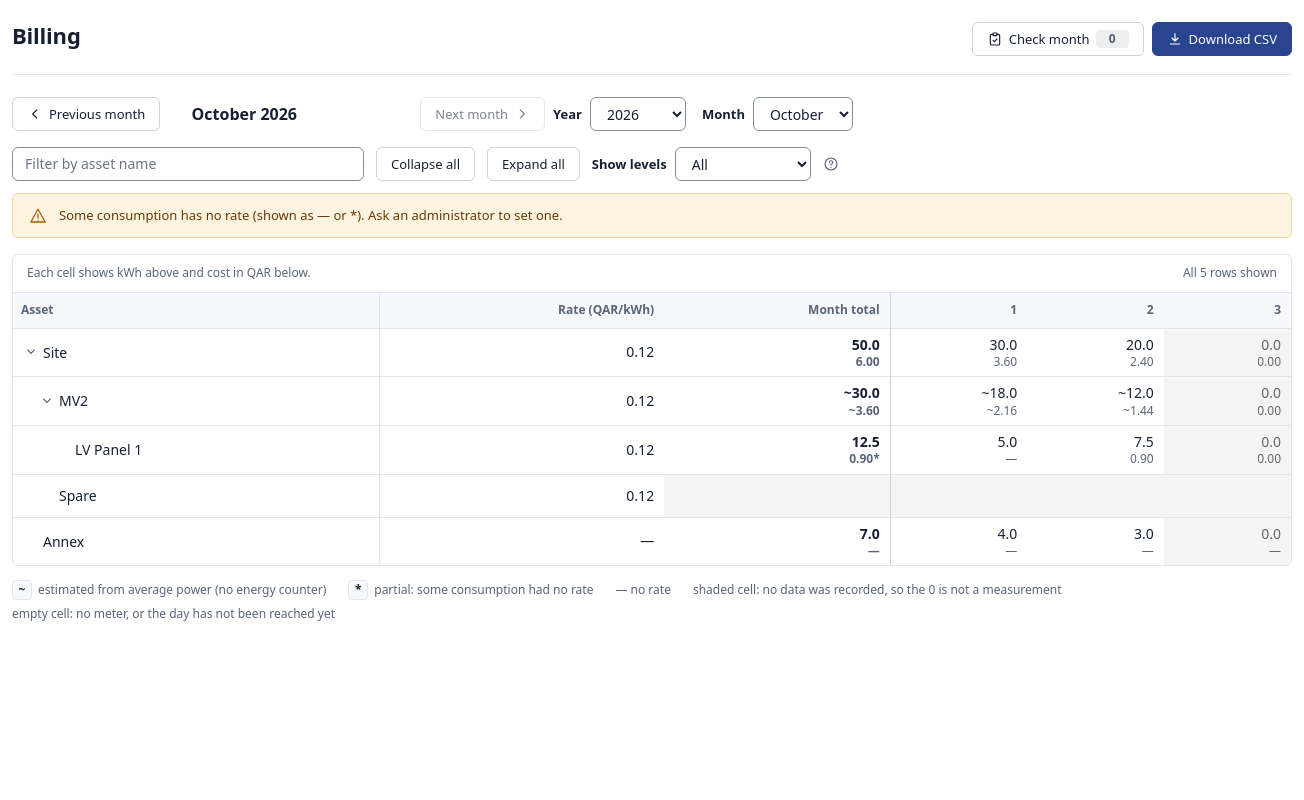
BillingPage › shows why the export failed
Click the button "Download CSV": (1222, 39) [1152,22,1292,56]
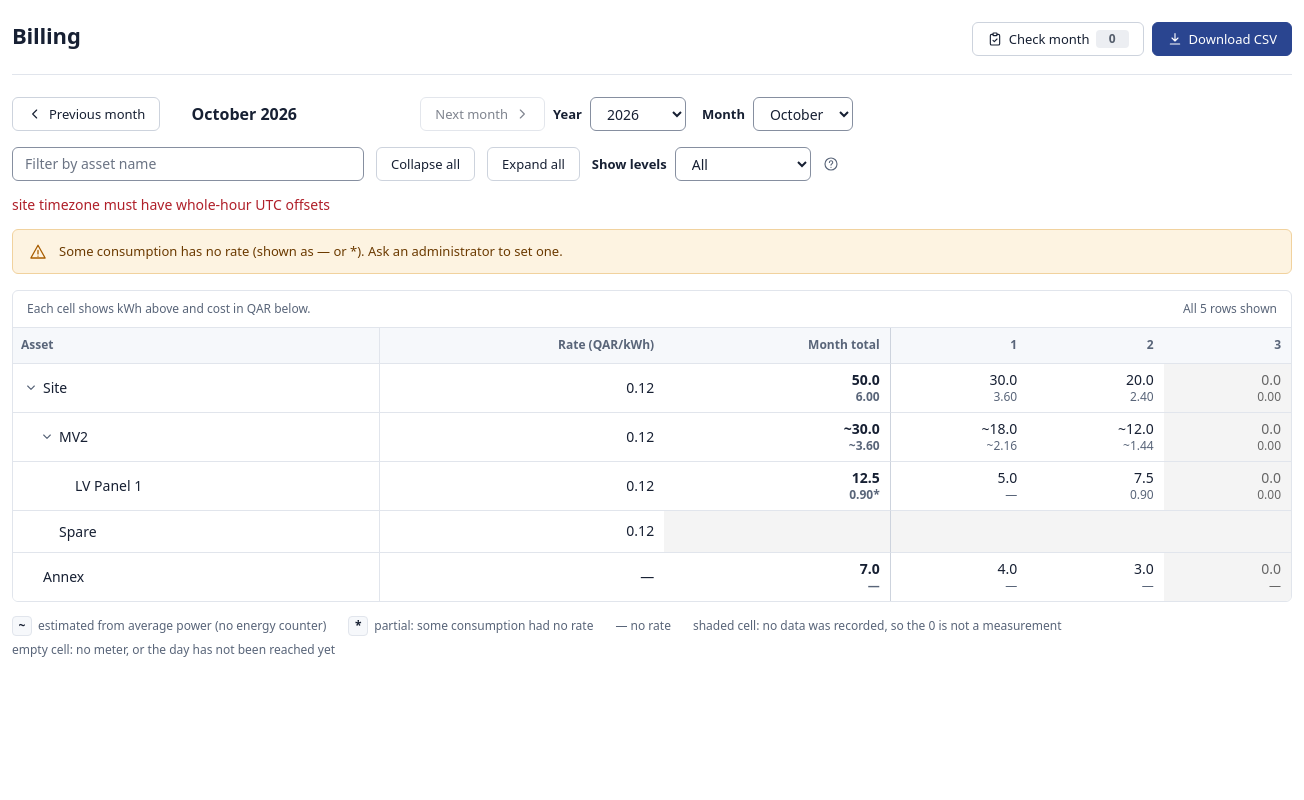
expect the message "site timezone must have whole-hour UTC offsets" is shown: met, box [12,195,330,214]
